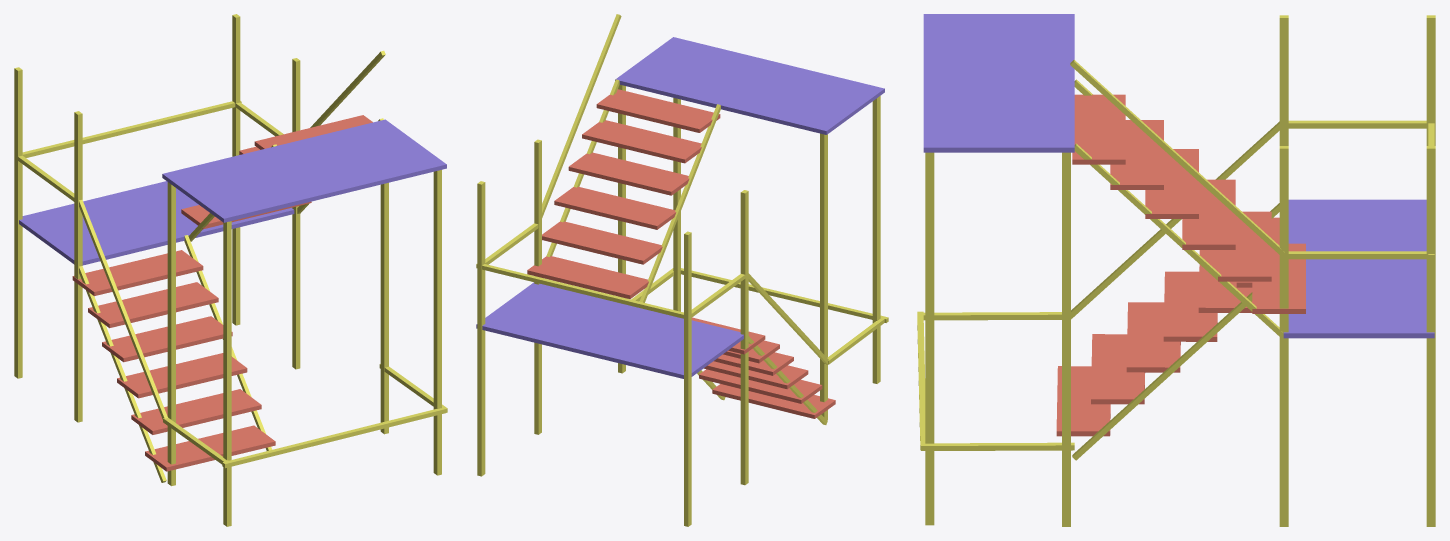
Rendered from stairs.fbx.
3 views of the same model, side by side, from view 1: azimuth 30°, elevation 25°; view 2: azimuth 150°, elevation 25°; view 3: azimuth 270°, elevation 25° (orthographic). The views are drawn at different scales.
Visible parts, largest first — view 1: Cube, Cube.033, Cube.028, Cube.027, Cube.032, Cube.030; view 2: Cube, Cube.028, Cube.027, Cube.033, Cube.032, Cube.030; view 3: Cube, Cube.027, Cube.029, Cube.030, Cube.031, Cube.032, Cube.033.
Part boxes in pixels (x1,y1,x2,y2): Cube: (14, 14, 446, 526); Cube.033: (222, 407, 446, 468); Cube.028: (22, 101, 241, 157); Cube.027: (310, 50, 385, 127); Cube.032: (163, 417, 228, 464); Cube.030: (15, 155, 77, 203); Cube: (476, 37, 884, 526); Cube.028: (476, 264, 683, 318); Cube.027: (542, 14, 621, 217); Cube.033: (680, 268, 888, 322); Cube.032: (824, 317, 885, 364); Cube.030: (689, 273, 748, 319); Cube: (923, 14, 1435, 526); Cube.027: (1070, 59, 1285, 256); Cube.029: (1280, 251, 1428, 259); Cube.030: (1288, 120, 1426, 128); Cube.031: (921, 442, 1074, 450); Cube.032: (917, 312, 1071, 320); Cube.033: (917, 311, 926, 450).
Size of the model in its own units: 582 by 933 by 942.
